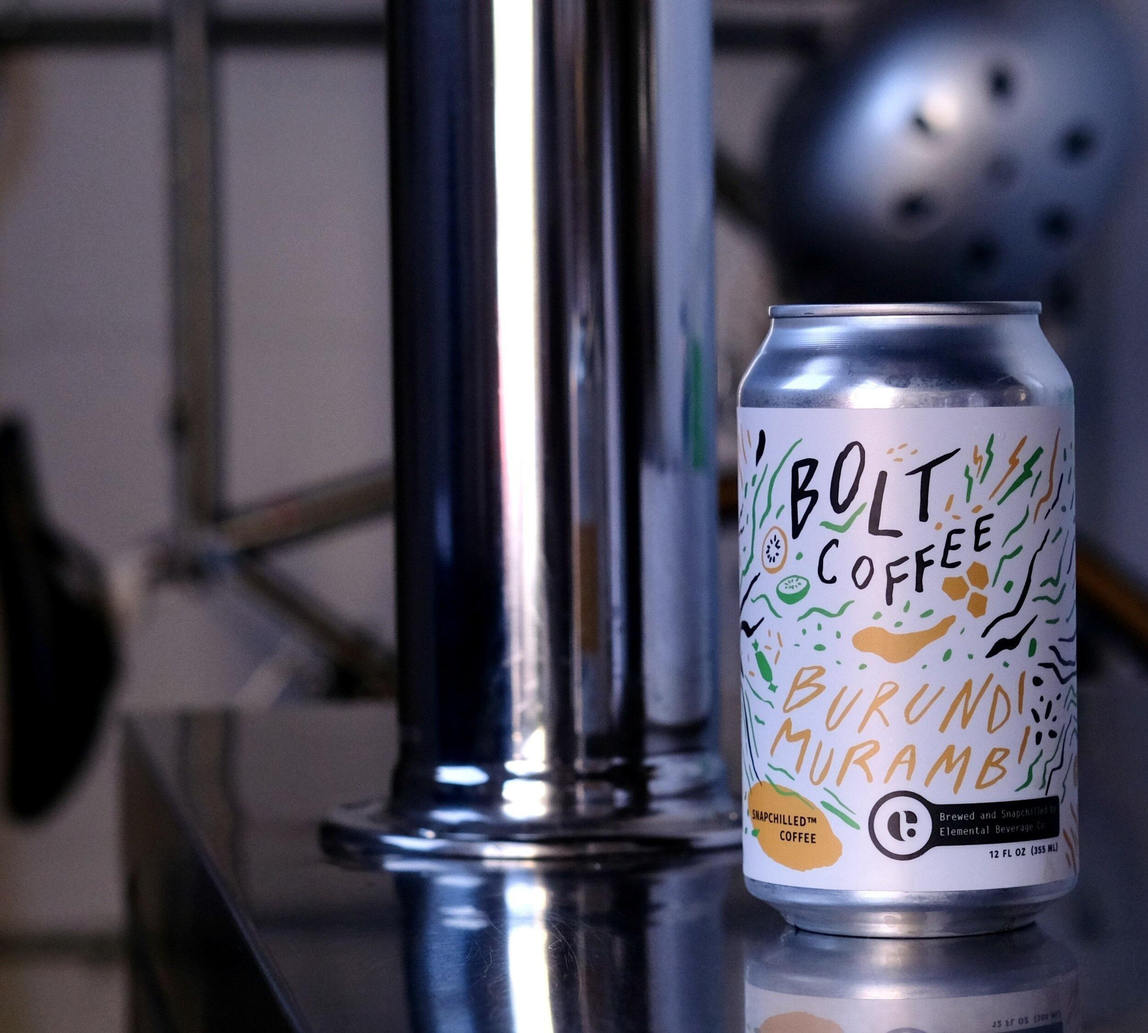tin can: (732, 294, 1083, 939)
